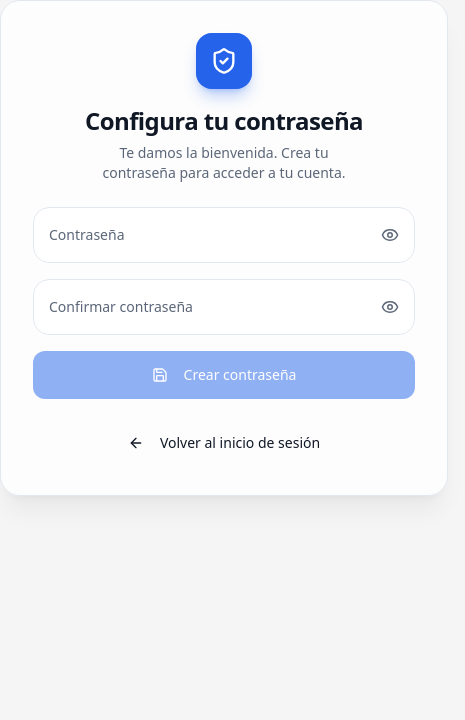
Test: Configura tu contraseña (/reset-password?welcome=1) › muestra tal cual el mensaje del backend ante un 400
In the password field labelled "Contraseña": (224, 235) [33,207,415,263], type "AdminClinica2026!"
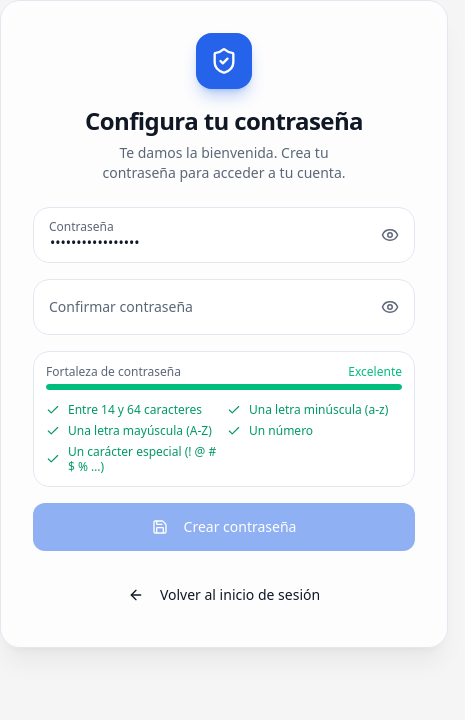
In the password field labelled "Confirmar contraseña": (224, 307) [33,279,415,335], type "AdminClinica2026!"
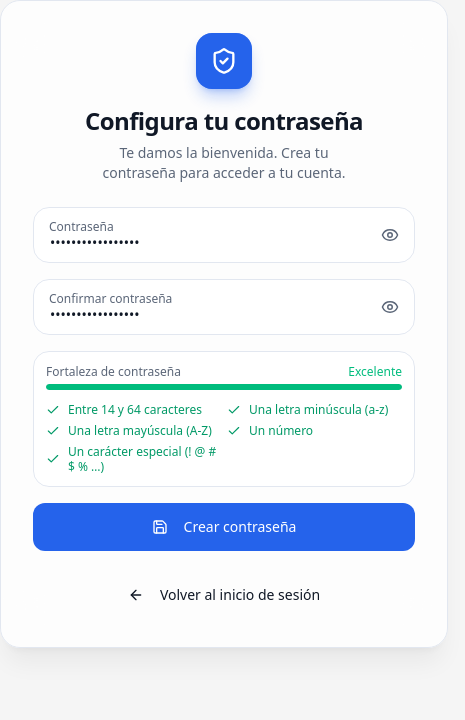
Click the button "Crear contraseña": (224, 527) [33,503,415,551]
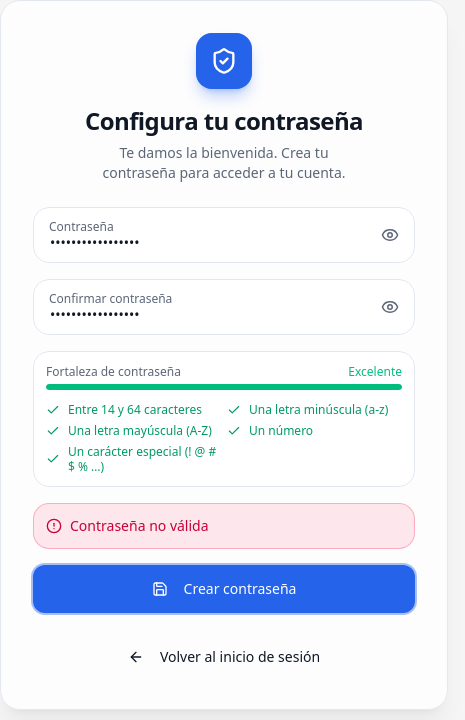
Now the message reads "Contraseña no válida", box [70,516,208,535]
